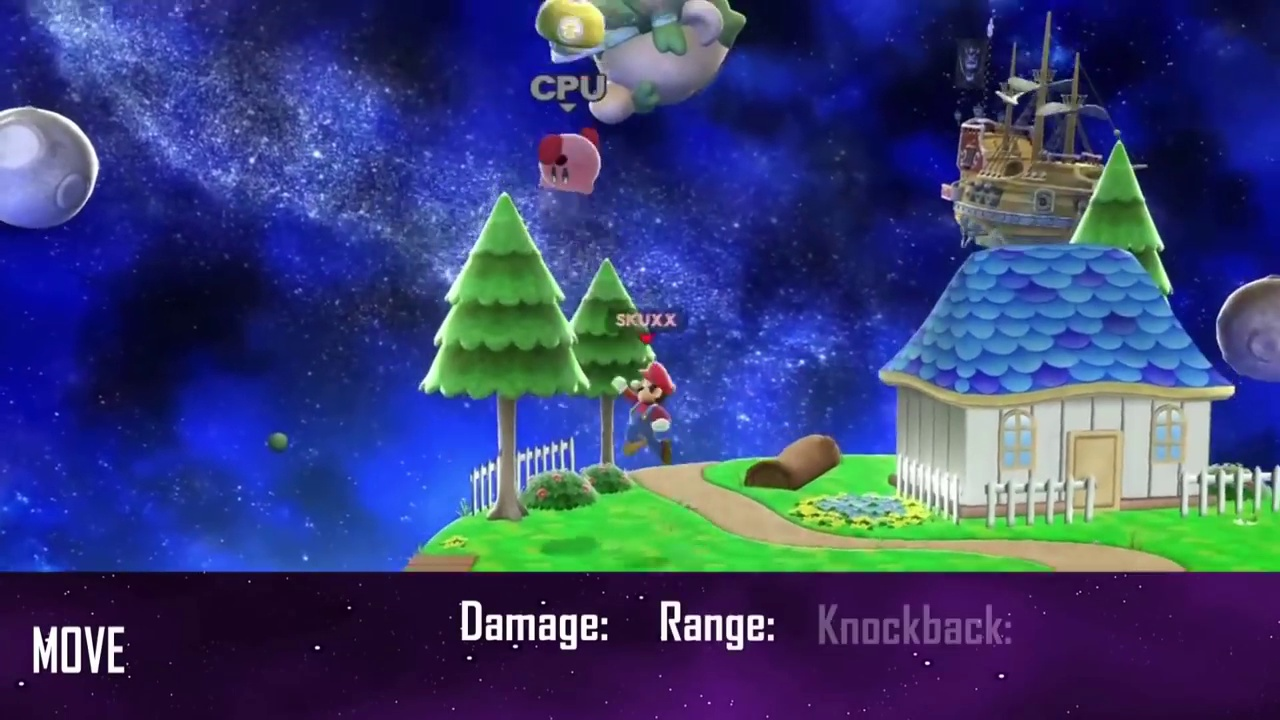Mario: (612, 362, 675, 468)
